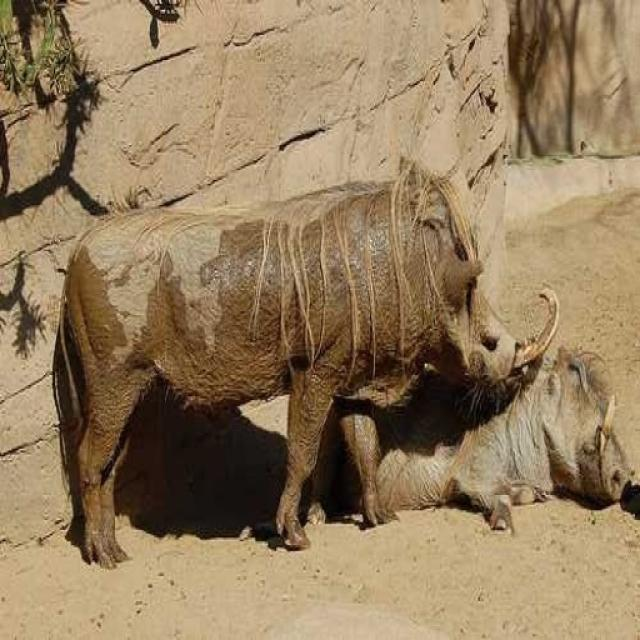pig: (28, 145, 508, 544), (440, 346, 640, 544)
